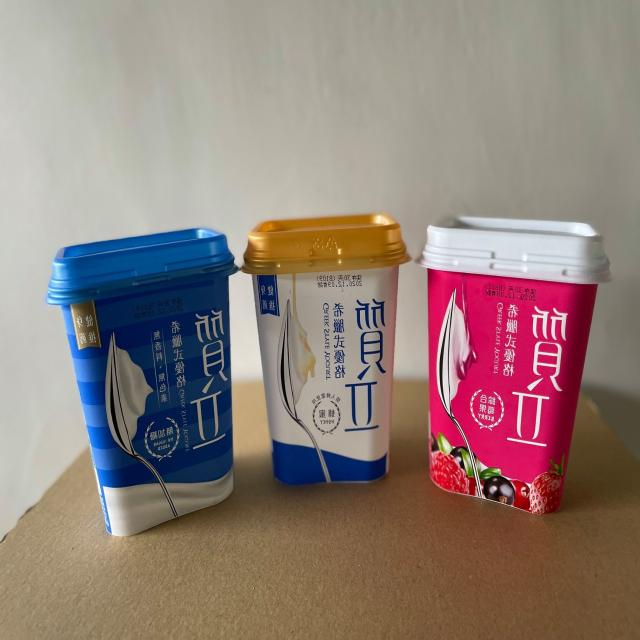plastic: (47, 224, 241, 541), (418, 211, 611, 513), (243, 208, 410, 489)
